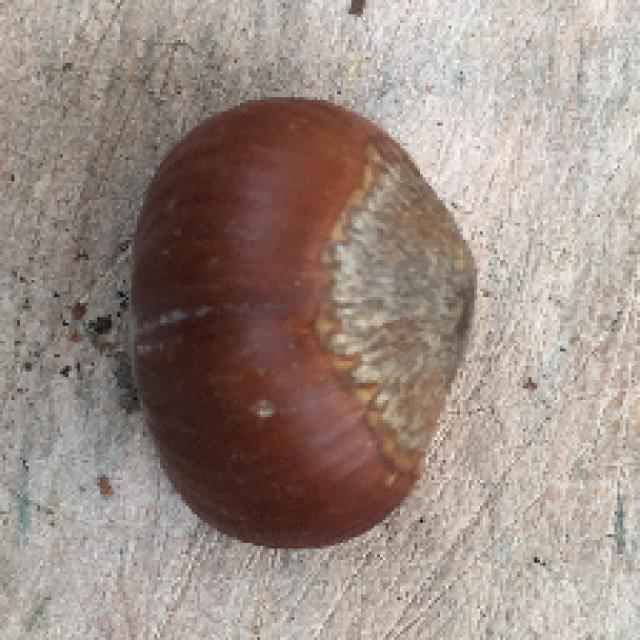damagedHazelnut: (112, 88, 490, 557)
